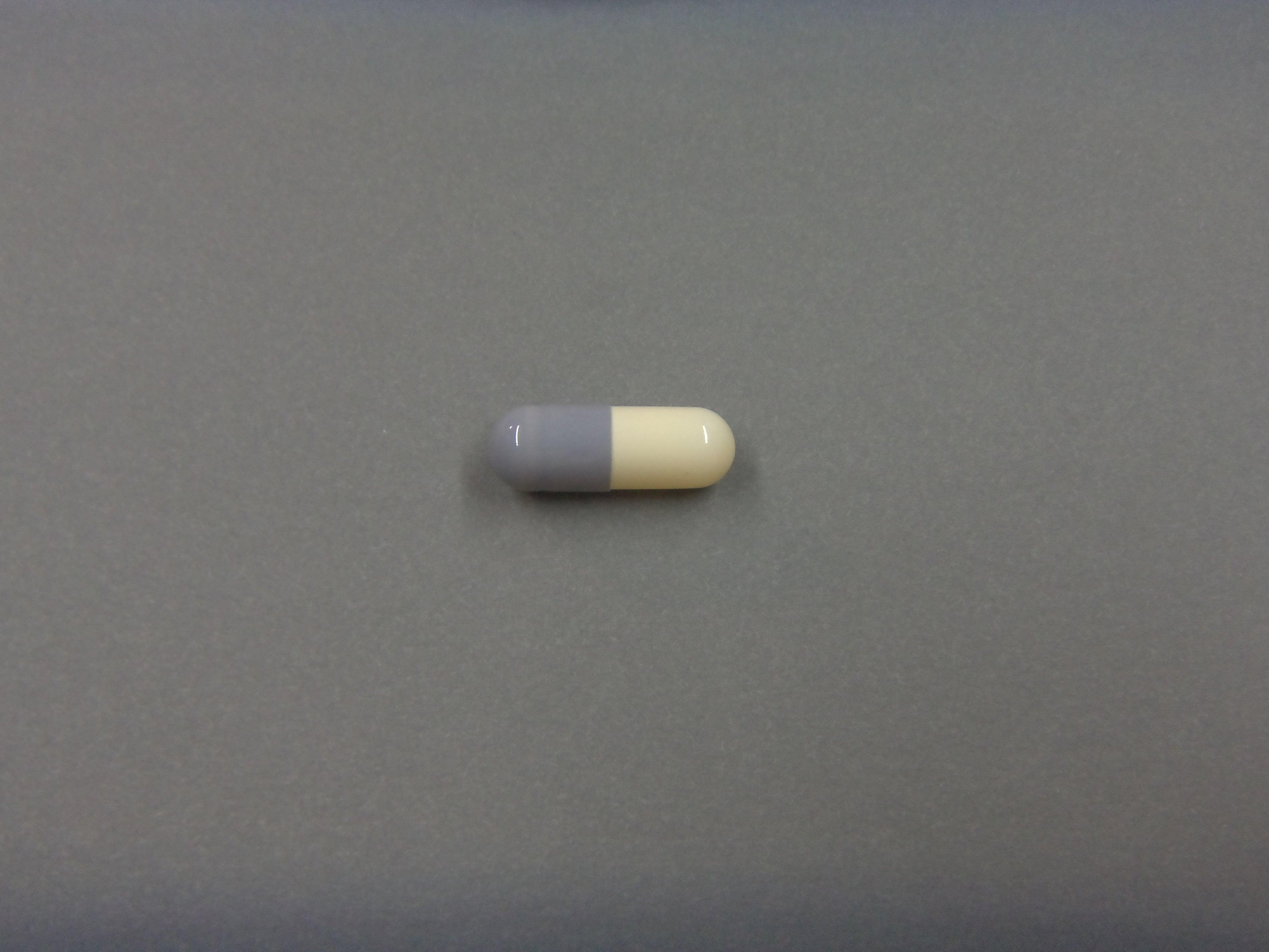Pill: (484, 395, 744, 508)
